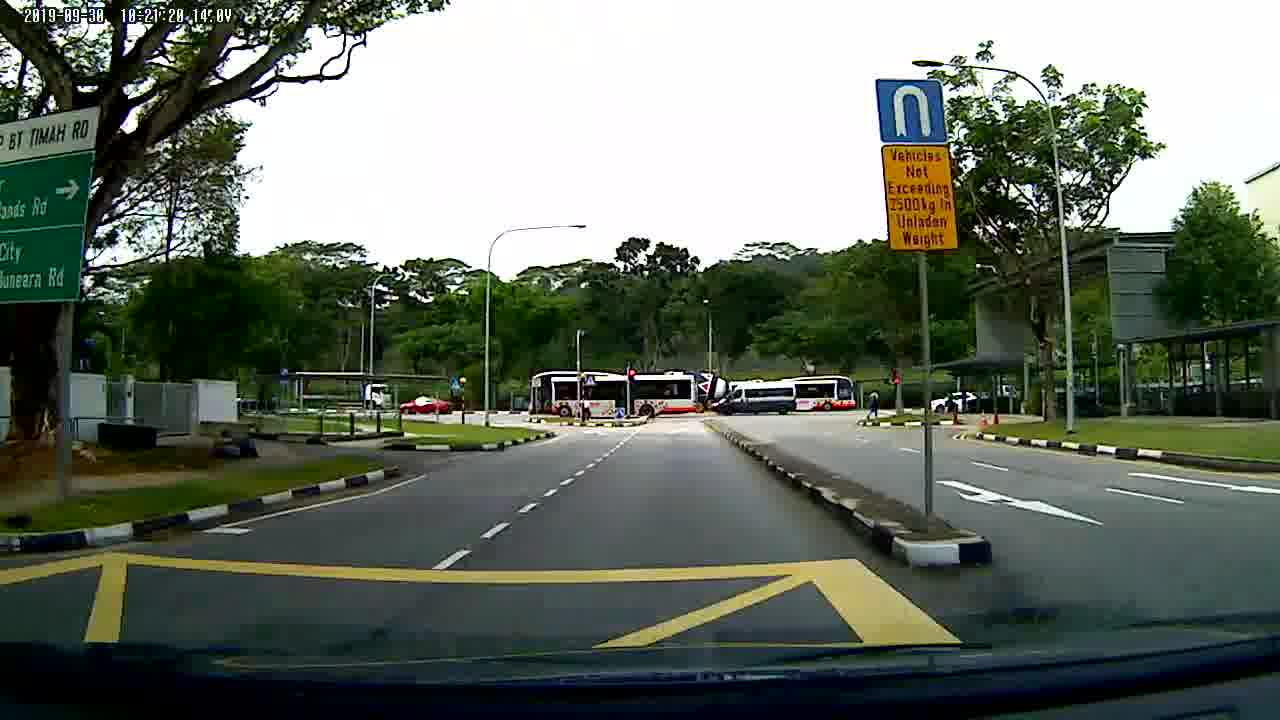bus: (525, 369, 700, 425), (792, 373, 856, 411)
car: (399, 395, 455, 414)
